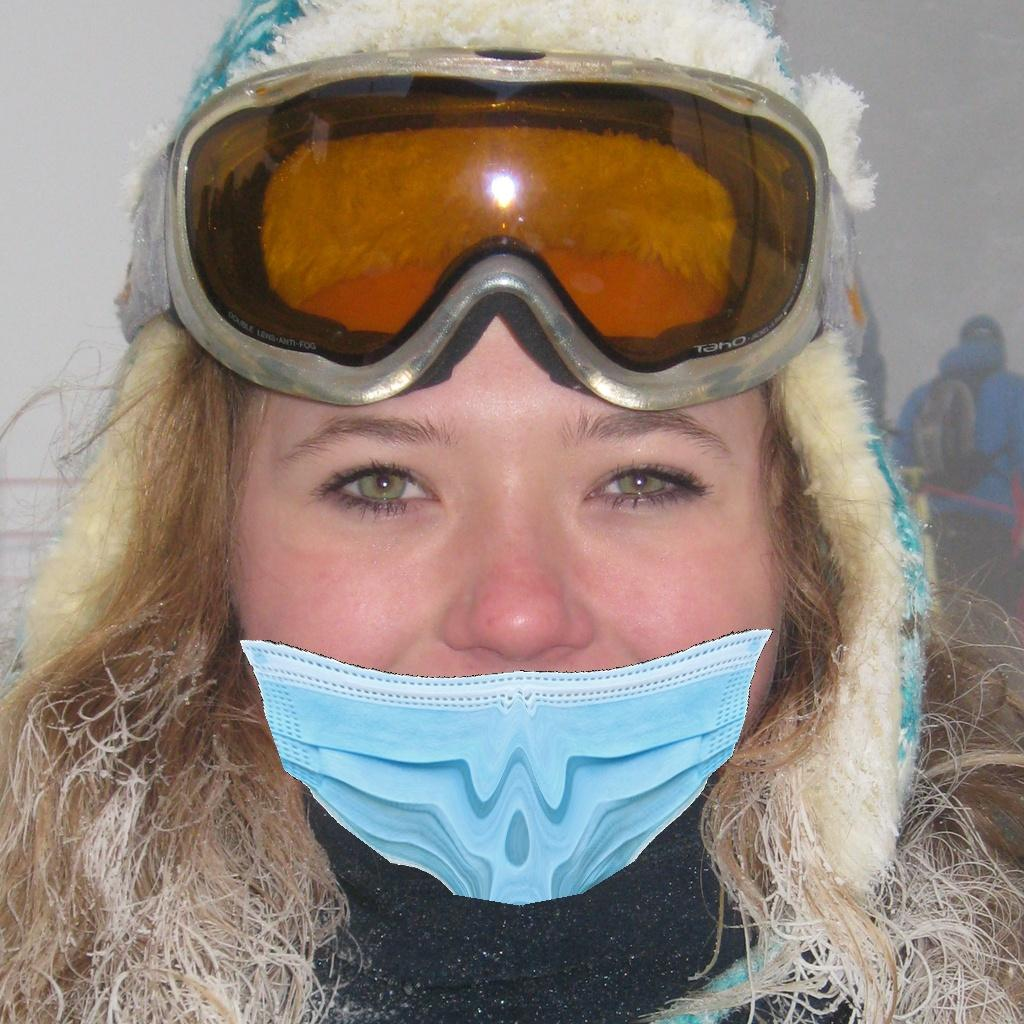Máscara Incorreta: (210, 310, 785, 863)
